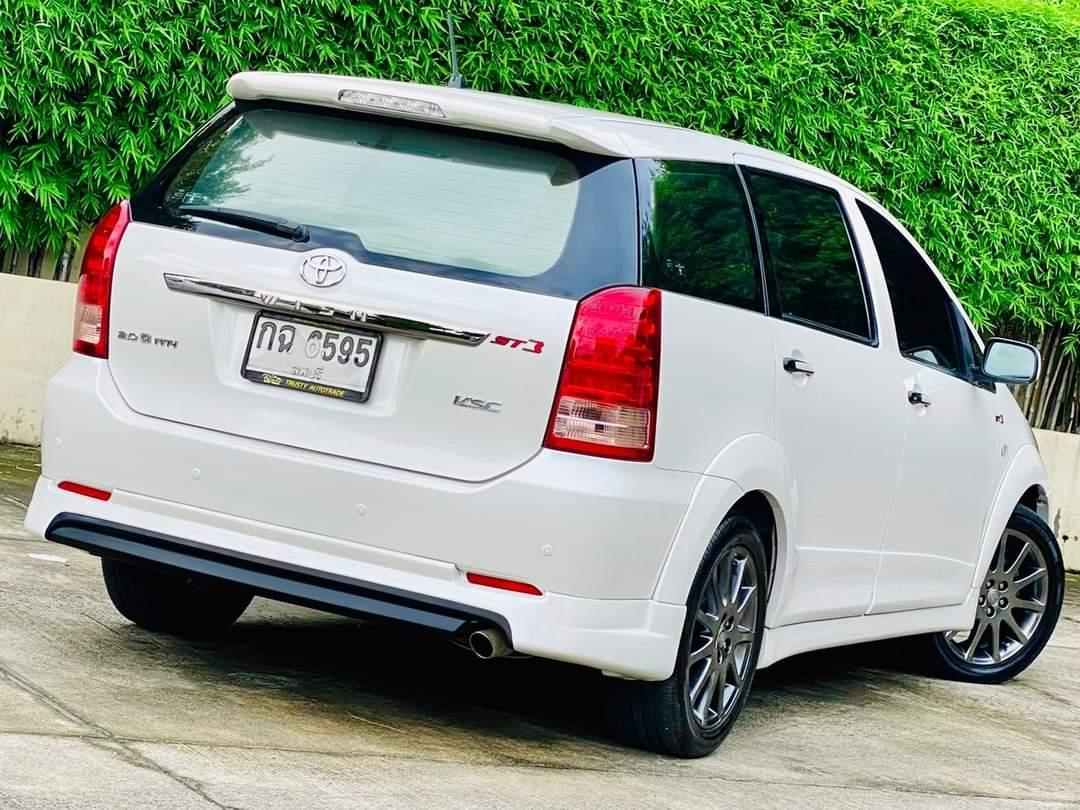license-plate: (238, 302, 388, 408)
